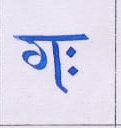anusvara: (67, 47, 75, 57)
